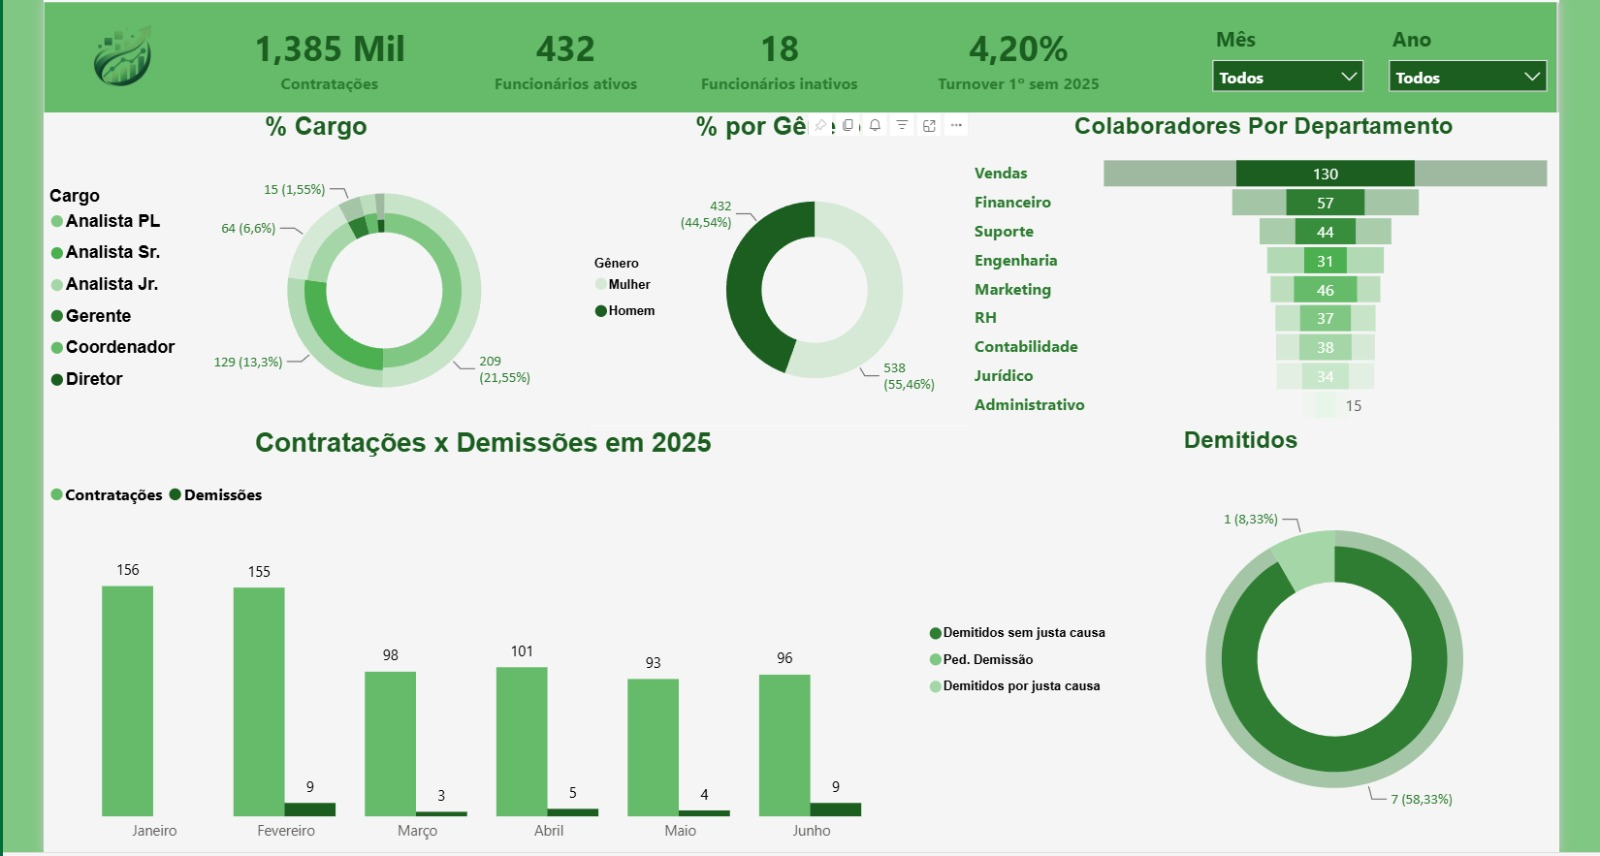

Layout of this report page (visuals, bound fields, positions):
{"tool":"powerbi","page":{"name":"Informações","canvas":[1280,720],"ordinal":0},"visuals":[{"type":"cardVisual","fields":{"Data":["Indicadores.Qtd contratações"]},"box":[147.5,0,188.9,98.3],"z":1000},{"type":"cardVisual","fields":{"Data":["Indicadores.Qtd funcionários ativos"]},"box":[336.4,0,209.1,98],"z":2000},{"type":"cardVisual","fields":{"Data":["Indicadores.Qtd funcionários inativos"]},"box":[516.6,0,209.1,98],"z":3000},{"type":"cardVisual","fields":{"Data":["Indicadores.turnover 1 sem 2025"]},"box":[725.9,0,196.1,98],"z":4000},{"type":"slicer","fields":{"Values":["dCalendario.Nome do Mês"]},"box":[977.5,15.9,148.4,67.2],"z":5000},{"type":"slicer","fields":{"Values":["dCalendario.Ano"]},"box":[1126,15.9,154,67.2],"z":6000},{"type":"donutChart","title":"% por Gênero","fields":{"Category":["dColaborador.genero"],"Y":["Indicadores.Qtd funcionários ativos"]},"box":[460.6,94.9,320.9,264.8],"z":7000},{"type":"donutChart","title":"% Cargo","fields":{"Category":["dColaborador.cargo"],"Y":["Indicadores.Qtd funcionários ativos"]},"box":[0,94.9,460.6,265.7],"z":8000},{"type":"funnel","title":"Colaboradores Por Departamento","fields":{"Category":["dDepartamento.departamento"],"Y":["Indicadores.Qtd funcionários ativos"]},"box":[781.5,94.9,498.5,265.7],"z":9000},{"type":"clusteredColumnChart","title":"Contratações x  Demissões em 2025","fields":{"Y":["Indicadores.Qtd contratações","Indicadores.Qtd demissão Jan - Jun"],"Category":["dCalendario.Nome do Mês"]},"box":[0,360.5,742.6,359.7],"z":10000},{"type":"donutChart","title":"Demitidos","fields":{"Y":["Indicadores.Qtd func. demitidos s justa causa","Indicadores.Qtd func. ped. demissao","Indicadores.Qtd func. demitidos p justa causa"]},"box":[743.1,360.1,536.9,360.1],"z":11000},{"type":"image","box":[0,0,130.6,94.6],"z":11001}]}

Visuals, with their boxes in screenshot pixels (x1, y1, x2, y2):
cardVisual - Indicadores.Qtd contratações: x1=179, y1=0, x2=408, y2=115
cardVisual - Indicadores.Qtd funcionários ativos: x1=408, y1=0, x2=662, y2=115
cardVisual - Indicadores.Qtd funcionários inativos: x1=627, y1=0, x2=880, y2=115
cardVisual - Indicadores.turnover 1 sem 2025: x1=880, y1=0, x2=1118, y2=115
slicer - dCalendario.Nome do Mês: x1=1186, y1=15, x2=1366, y2=97
slicer - dCalendario.Ano: x1=1366, y1=15, x2=1553, y2=97
"% por Gênero" donutChart: x1=559, y1=111, x2=948, y2=432
"% Cargo" donutChart: x1=0, y1=111, x2=559, y2=433
"Colaboradores Por Departamento" funnel: x1=948, y1=111, x2=1553, y2=433
"Contratações x  Demissões em 2025" clusteredColumnChart: x1=0, y1=433, x2=901, y2=855
"Demitidos" donutChart: x1=901, y1=433, x2=1553, y2=855
image: x1=0, y1=0, x2=158, y2=111
